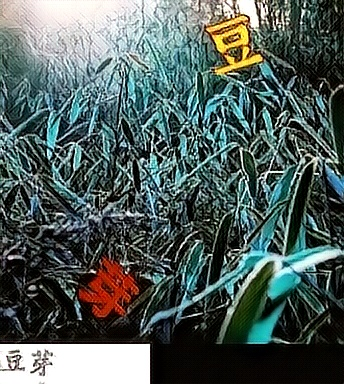B6B9: (203, 14, 265, 78)
D1BF: (76, 256, 138, 320)
